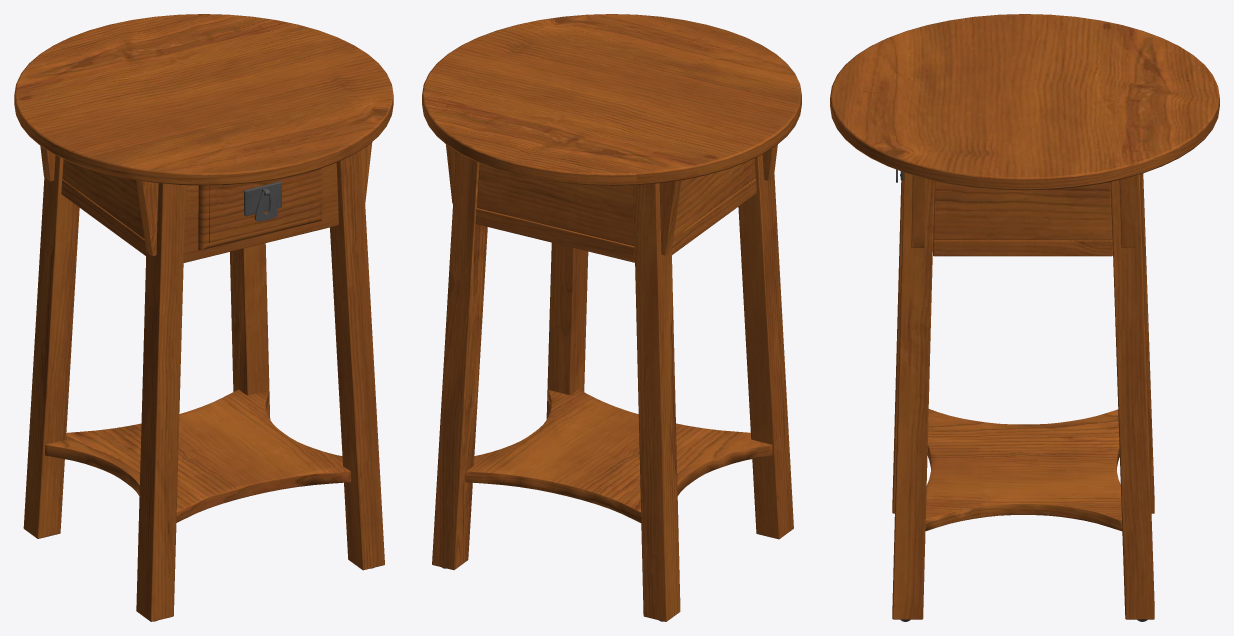
File: B07L8DMTMS.glb
3 renders of one model, left to right at view 1: azimuth 30°, elevation 25°; view 2: azimuth 150°, elevation 25°; view 3: azimuth 270°, elevation 25°, orthographic. The views are drawn at different scales.
Visible parts, largest first — view 1: B07L8DMTMS; view 2: B07L8DMTMS; view 3: B07L8DMTMS.
Part boxes in pixels (bbox=[...]): B07L8DMTMS: bbox=[14, 14, 393, 621]; B07L8DMTMS: bbox=[422, 14, 801, 621]; B07L8DMTMS: bbox=[830, 14, 1219, 621].
Bounding box in the file's own units: 0.4572 × 0.6096 × 0.4572.
1 material, 1 textured.
